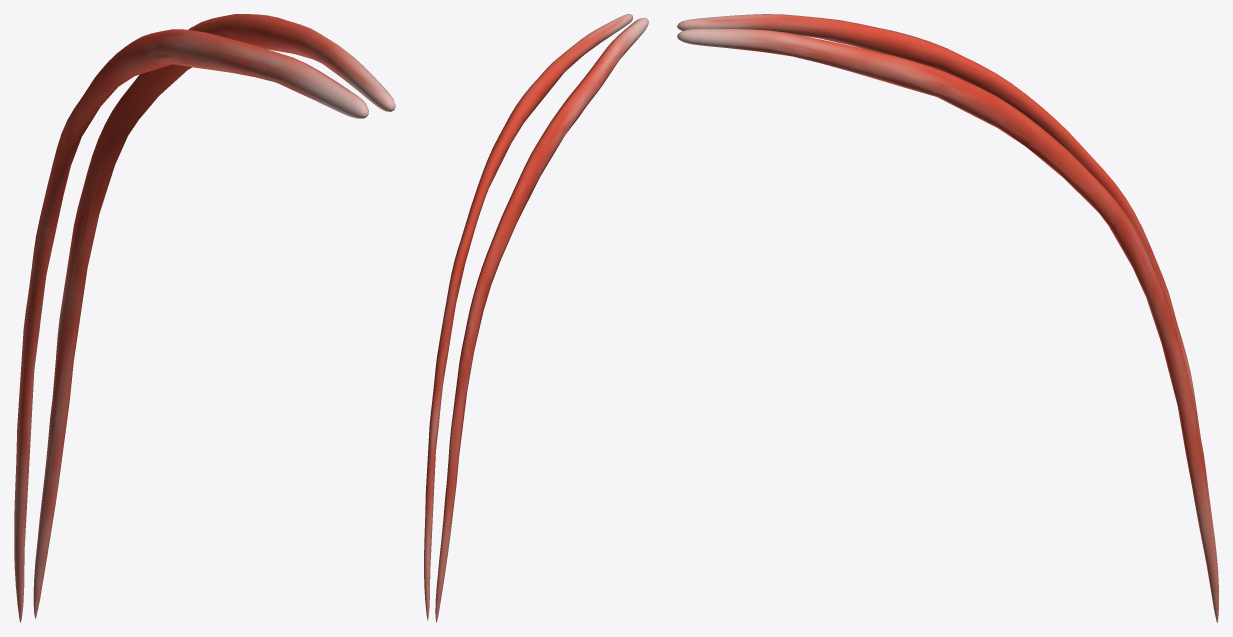
File: intertransversarii caudae.fbx
The picture shows the model from 3 angles, left to right: view 1: azimuth 30°, elevation 25°; view 2: azimuth 150°, elevation 25°; view 3: azimuth 270°, elevation 25°; orthographic projection. The views are drawn at different scales.
Parts seen in each view (by area): view 1: intertransversarii caudae low, intertransversarii caudae; view 2: intertransversarii caudae, intertransversarii caudae low; view 3: intertransversarii caudae, intertransversarii caudae low.
Boxes of the visible parts, <box> form: intertransversarii caudae low: <box>16,18,392,620</box>; intertransversarii caudae: <box>14,14,395,622</box>; intertransversarii caudae: <box>424,14,648,622</box>; intertransversarii caudae low: <box>424,35,624,583</box>; intertransversarii caudae: <box>677,14,1218,622</box>; intertransversarii caudae low: <box>681,20,1217,620</box>.
Bounding box in the file's own units: 6.27 × 48.94 × 40.21.
Materials: 1 (1 with a texture image).
